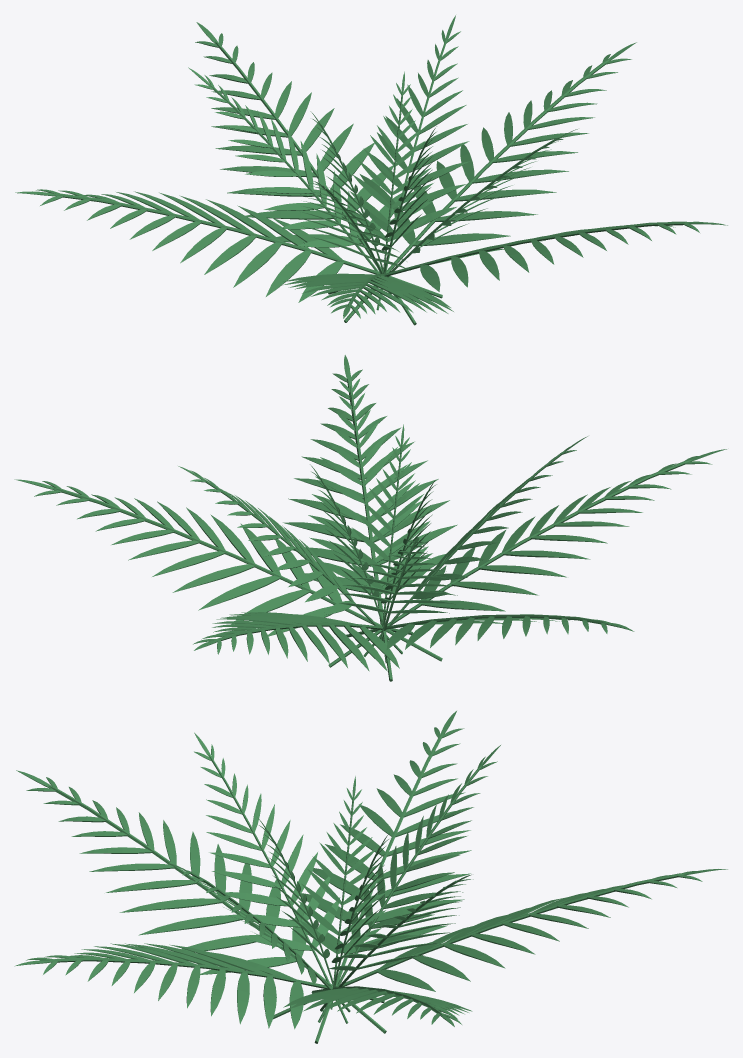
File: Farn dunkelgrün.fbx
3 renders of one model, top to bottom at view 1: azimuth 30°, elevation 25°; view 2: azimuth 150°, elevation 25°; view 3: azimuth 270°, elevation 25°, orthographic. The views are drawn at different scales.
Parts seen in each view (by area): view 1: Farn_dunkelgrün; view 2: Farn_dunkelgrün; view 3: Farn_dunkelgrün.
Part boxes in pixels (left/top/right/bottom): Farn_dunkelgrün: left=15, top=15, right=727, bottom=325; Farn_dunkelgrün: left=14, top=355, right=726, bottom=681; Farn_dunkelgrün: left=14, top=711, right=727, bottom=1043.
Size of the model in its own units: 503 by 160 by 479.
